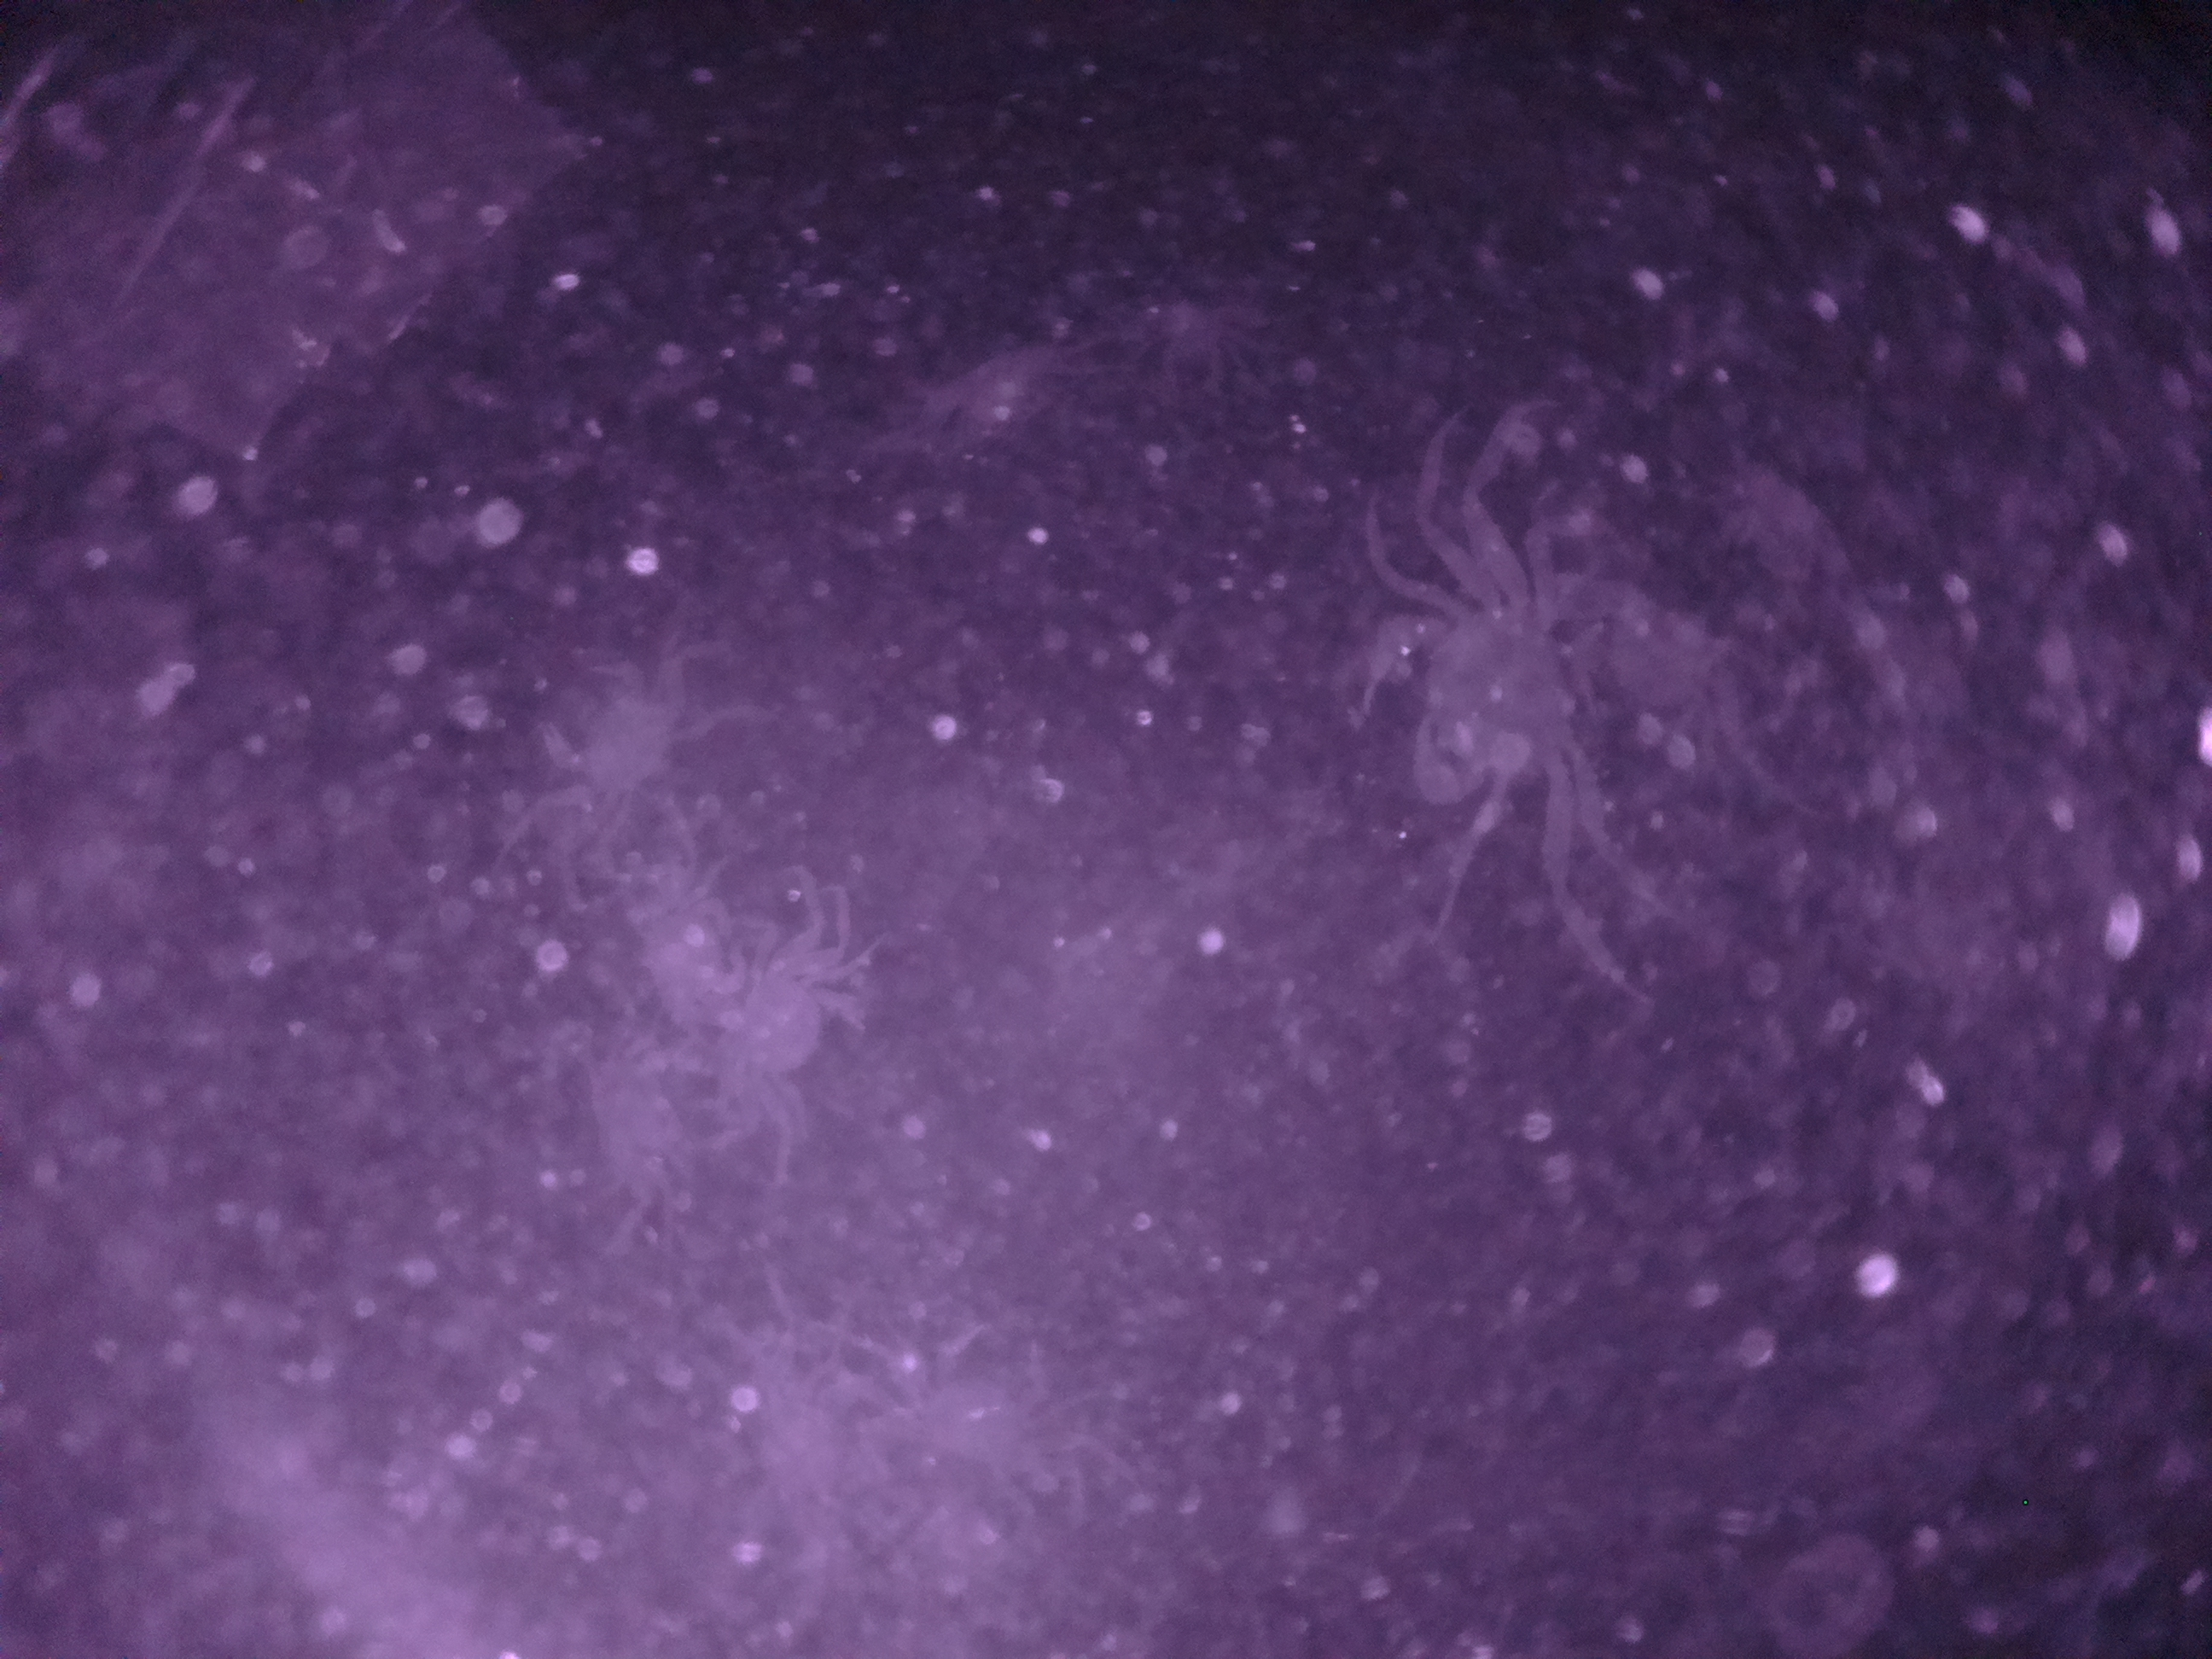Crab: (1345, 544, 1604, 838)
